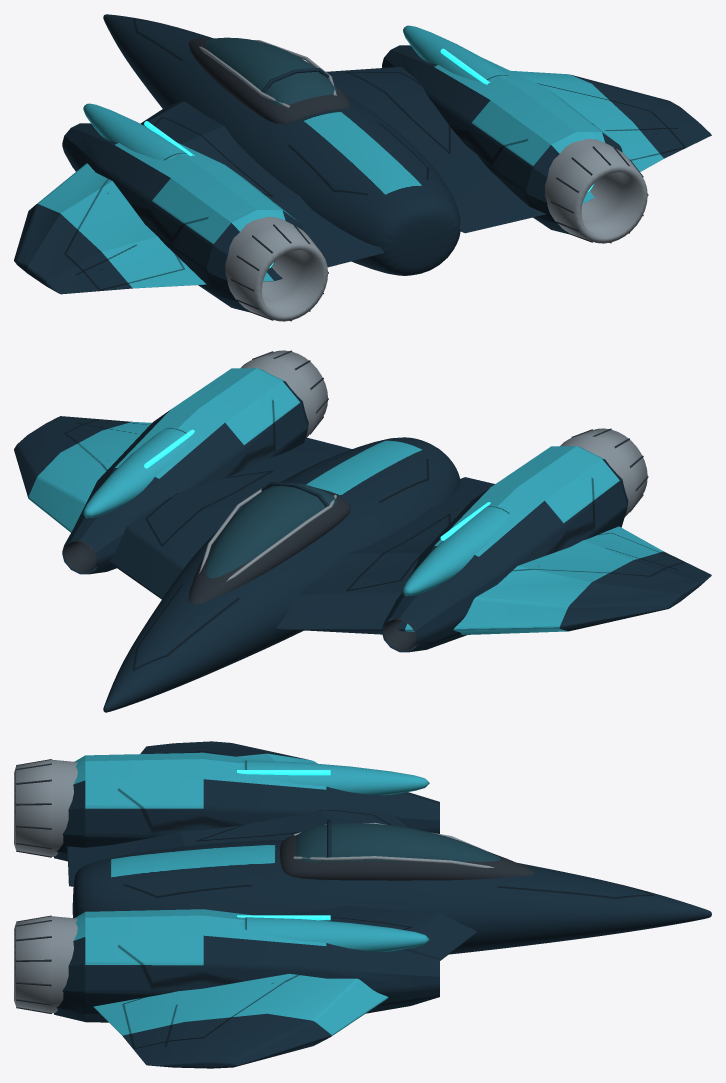
3 renders of one model, top to bottom at view 1: azimuth 30°, elevation 25°; view 2: azimuth 150°, elevation 25°; view 3: azimuth 270°, elevation 25°, orthographic.
Visible parts, largest first — view 1: NovaOverdriveV2; view 2: NovaOverdriveV2; view 3: NovaOverdriveV2.
Boxes of the visible parts, x1,y1,x2,y2 form: NovaOverdriveV2: (14,14,711,321); NovaOverdriveV2: (14,350,711,712); NovaOverdriveV2: (14,741,711,1068).
Bounding box in the file's own units: 3.4 × 0.6313 × 3.13.
6 materials, 2 textured.
